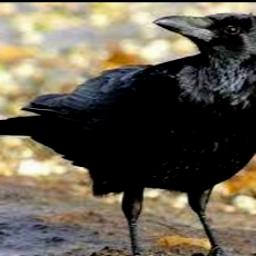Crow: (0, 12, 256, 256)
